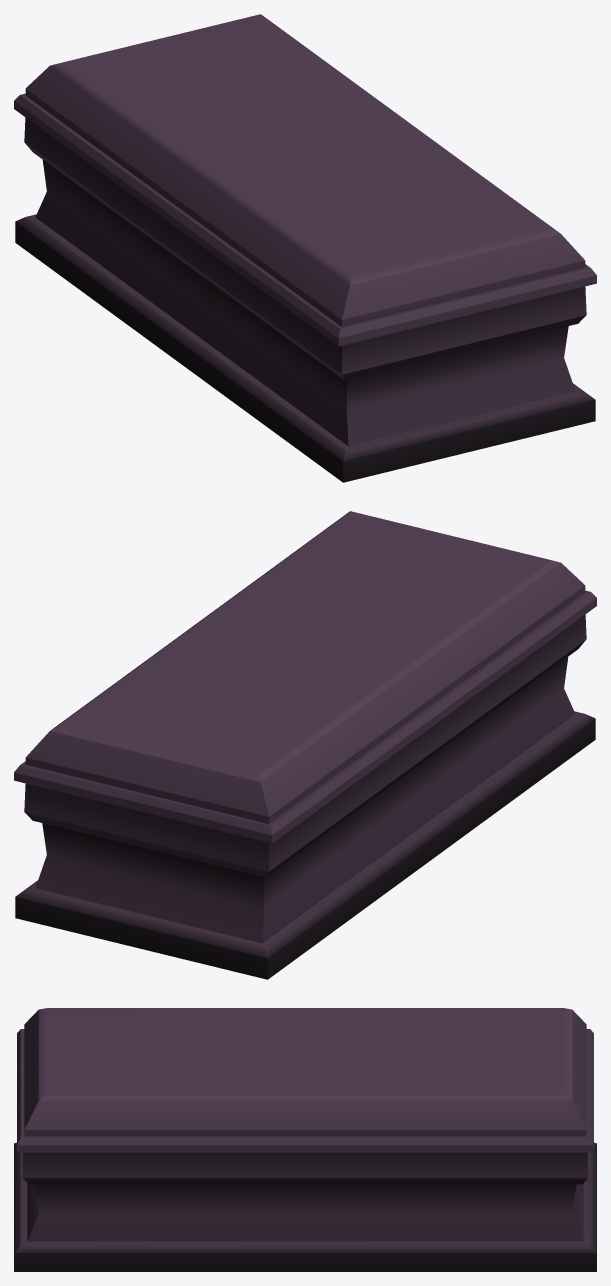
Rendered from cryptCoffin1_mesh.fbx.
The picture shows the model from 3 angles, top to bottom: view 1: azimuth 30°, elevation 25°; view 2: azimuth 150°, elevation 25°; view 3: azimuth 270°, elevation 25°; orthographic projection. The views are drawn at different scales.
Visible parts, largest first — view 1: cryptCoffin1_mesh; view 2: cryptCoffin1_mesh; view 3: cryptCoffin1_mesh.
Boxes of the visible parts, x1,y1,x2,y2 form: cryptCoffin1_mesh: (14, 14, 596, 482); cryptCoffin1_mesh: (14, 511, 596, 979); cryptCoffin1_mesh: (14, 1008, 596, 1271).
Size of the model in its own units: 81.86 by 56.58 by 180.
